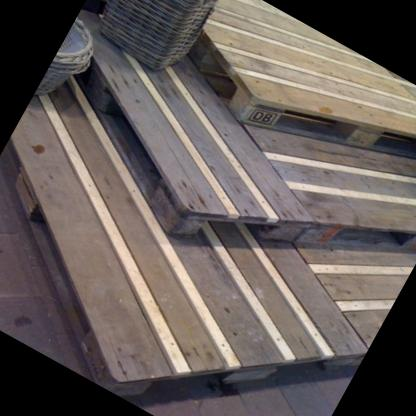BoxFace: (3, 77, 366, 396), (78, 10, 317, 244), (186, 0, 416, 150)
